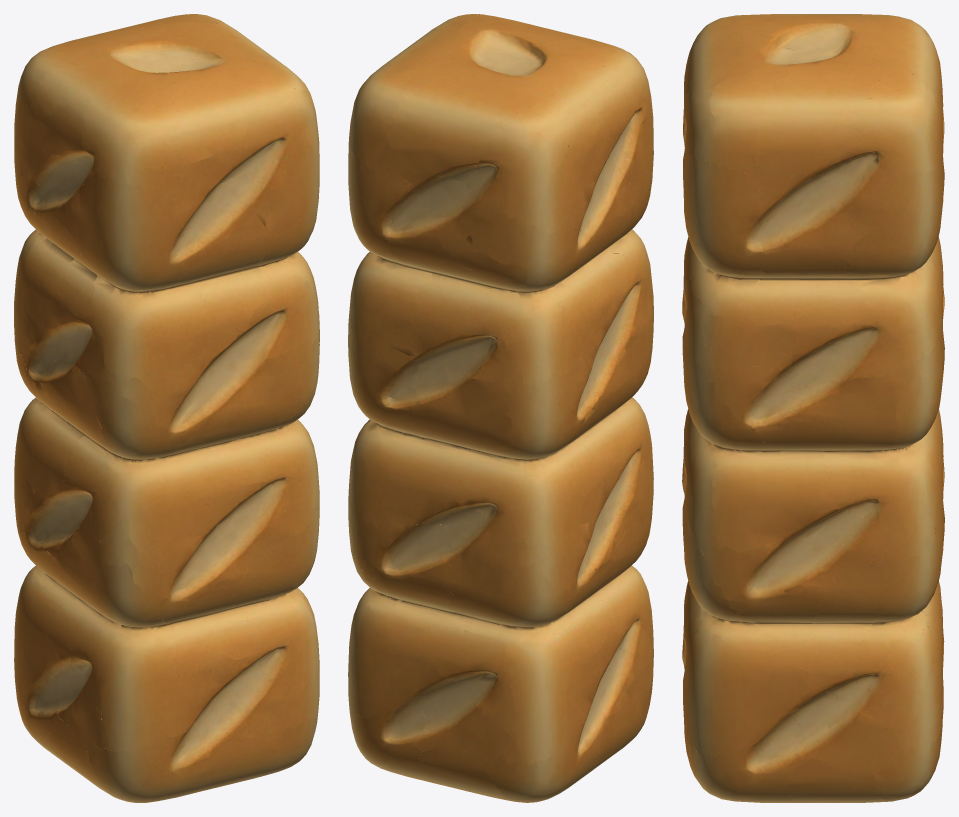
File: prop-stacked-bread-cubes.glb
3 views of the same model, side by side, from view 1: azimuth 30°, elevation 25°; view 2: azimuth 150°, elevation 25°; view 3: azimuth 270°, elevation 25° (orthographic). The views are drawn at different scales.
Visible parts, largest first — view 1: Mesh_0; view 2: Mesh_0; view 3: Mesh_0.
Part boxes in pixels (left/top/right/bottom): Mesh_0: left=14, top=14, right=319, bottom=802; Mesh_0: left=348, top=14, right=653, bottom=802; Mesh_0: left=682, top=14, right=944, bottom=802.
Size of the model in its own units: 0.6231 by 1.9 by 0.6234.
1 material, 1 textured.
